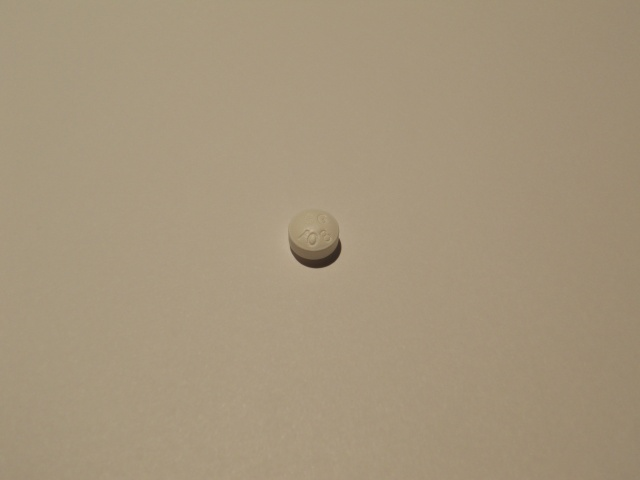0: (307, 231, 319, 246)
8: (320, 228, 331, 243)
F: (295, 227, 310, 242)
G: (316, 213, 330, 228), (303, 213, 315, 226)
